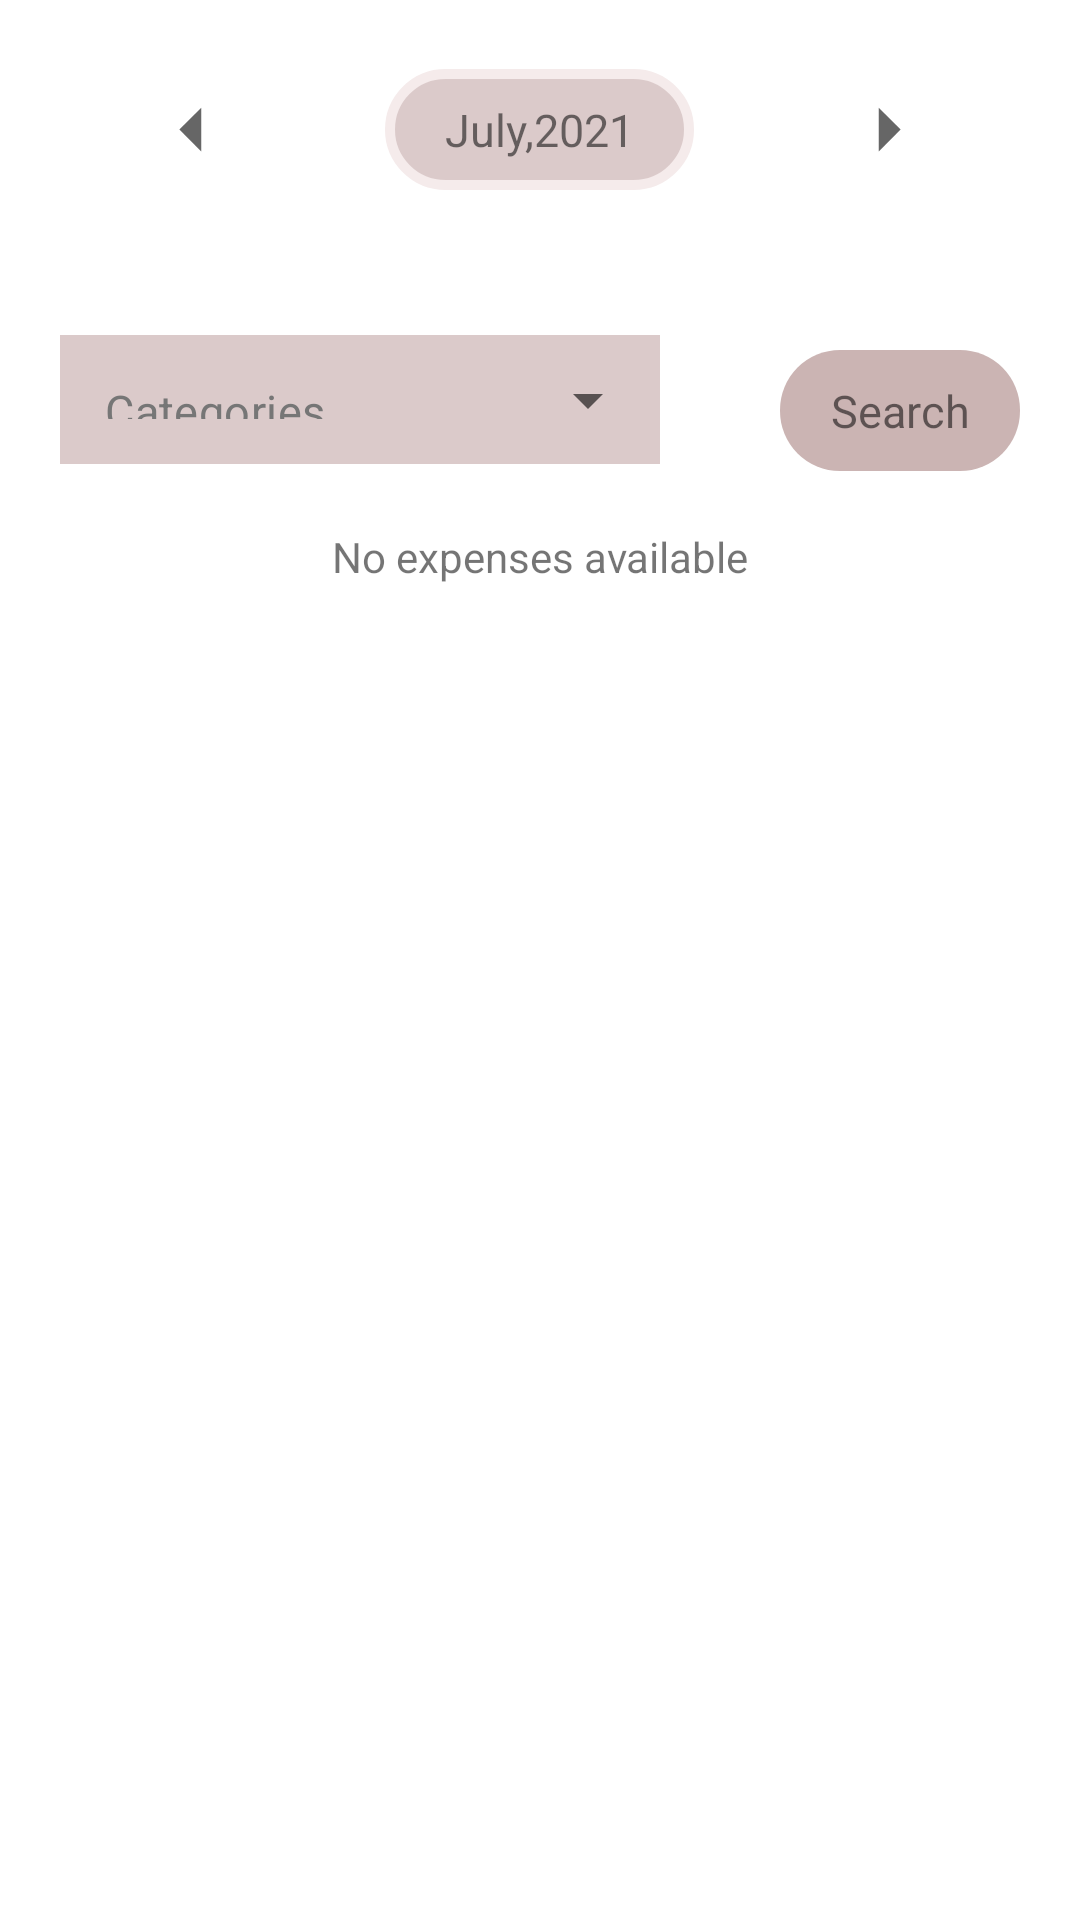

Locate icon controls on the screen. Image size 1080×1920, boxes as region(x1, y1, x2, y2).
arrow left: region(179, 108, 202, 151)
arrow right: region(878, 108, 901, 151)
